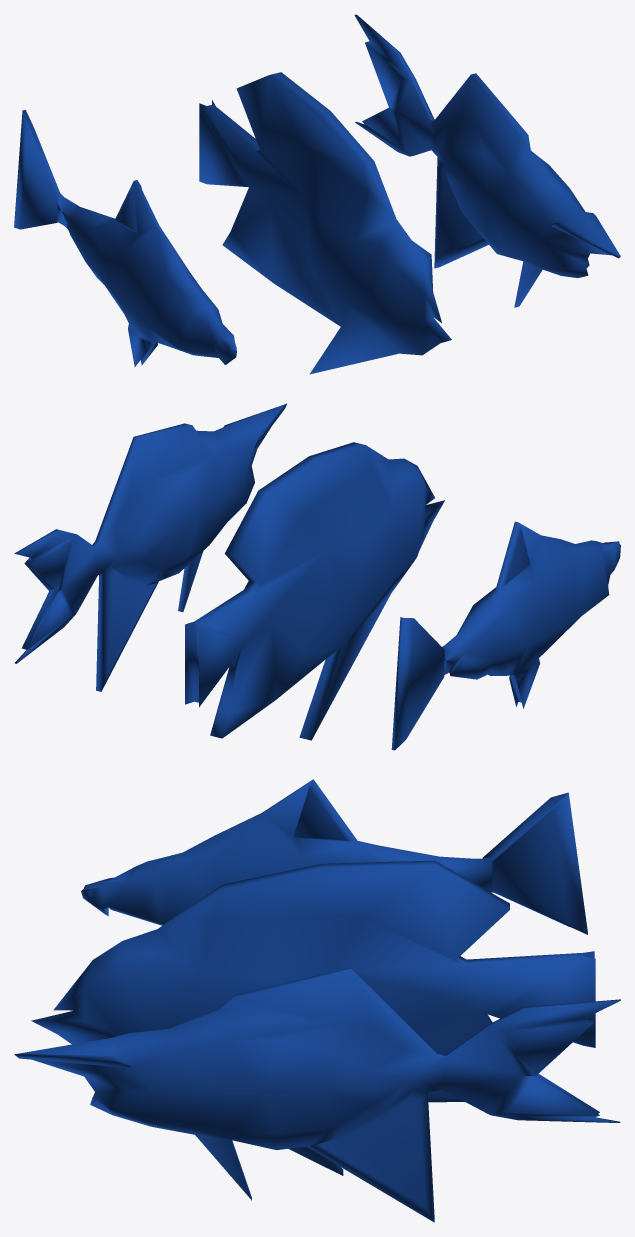
3 renders of one model, top to bottom at view 1: azimuth 30°, elevation 25°; view 2: azimuth 150°, elevation 25°; view 3: azimuth 270°, elevation 25°, orthographic. The views are drawn at different scales.
Visible parts, largest first — view 1: Fish 0, Fish 2, Fish 1; view 2: Fish 0, Fish 2, Fish 1; view 3: Fish 2, Fish 0, Fish 1.
Boxes of the visible parts, bbox=[...] form: Fish 0: bbox=[199, 72, 451, 374]; Fish 2: bbox=[354, 14, 620, 307]; Fish 1: bbox=[14, 109, 236, 367]; Fish 0: bbox=[185, 442, 444, 740]; Fish 2: bbox=[14, 403, 286, 691]; Fish 1: bbox=[391, 521, 620, 750]; Fish 2: bbox=[14, 967, 620, 1222]; Fish 0: bbox=[31, 860, 595, 1175]; Fish 1: bbox=[81, 779, 587, 934].
Bounding box in the file's own units: 126 × 79.95 × 142.
